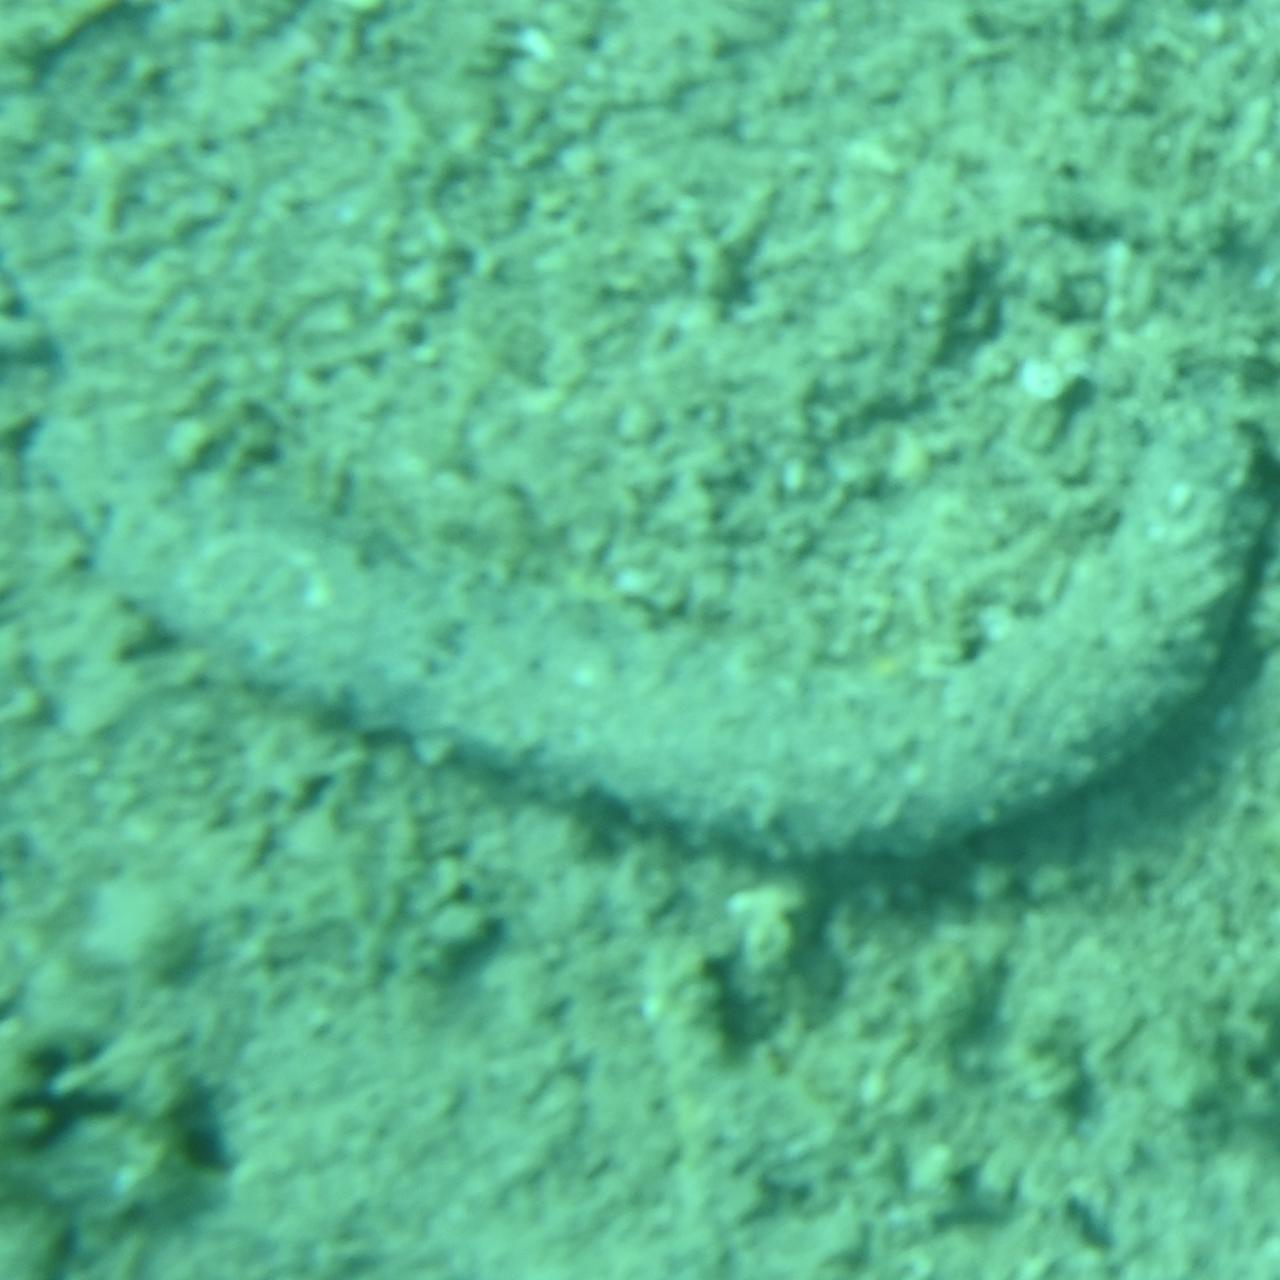Holothuria tubulosa: (0, 400, 1280, 880)
